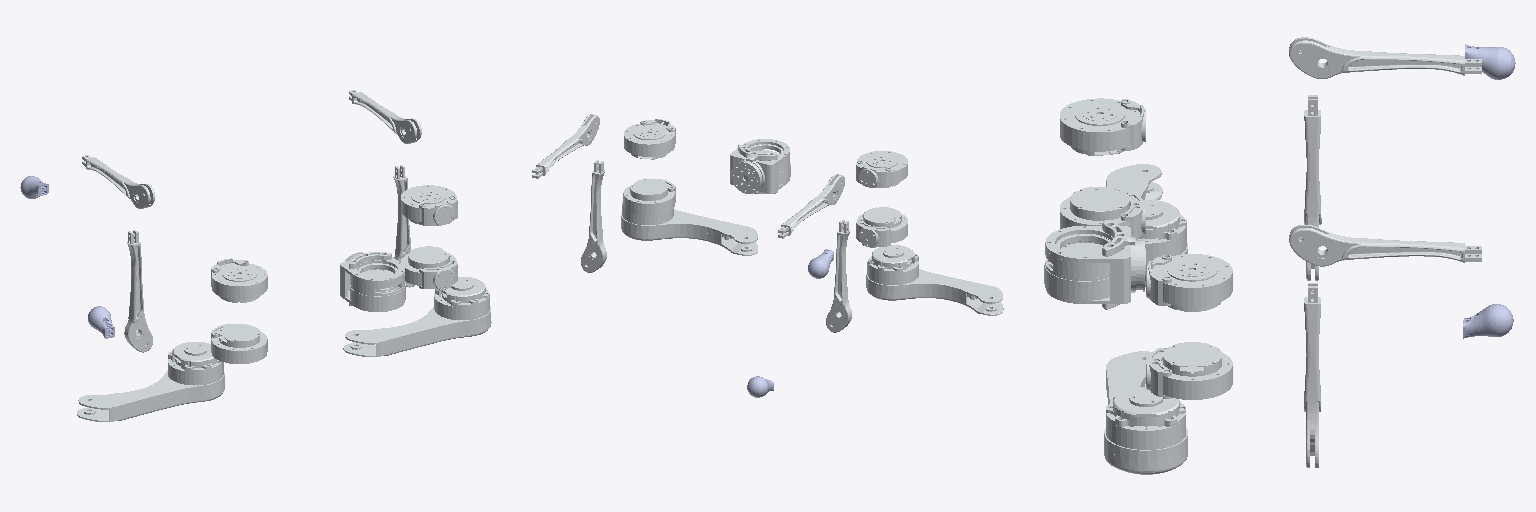
--- What the picture shows (computed from the rendered views, not written in the file) ---
Views: 3 orthographic renders of the robot side by side, from view 1: azimuth 30°, elevation 25°; view 2: azimuth 150°, elevation 25°; view 3: azimuth 270°, elevation 25°.
Robot: stray — 20 links, 19 joints (14 revolute, 5 fixed); root link base_link; default pose: all joints at 0.
Visible links, largest first — view 1: thigh_RH, thigh_RF, spine, hip_LH, hip_LF, hip_RF, hip_RH, calf_RH, calf_LF, calf_LH, calf_RF, foot_RH; view 2: thigh_RH, thigh_RF, spine, hip_RH, hip_LF, hip_RF, hip_LH, calf_RF, calf_RH, calf_LF, calf_LH; view 3: thigh_RF, spine, hip_LF, hip_RF, hip_LH, calf_LF, calf_LH, thigh_RH, hip_RH, calf_RF, calf_RH, foot_RH (+1 smaller).
Boxes of the visible links, left/top/right/bottom form: thigh_RH: left=77, top=342, right=224, bottom=421; thigh_RF: left=343, top=277, right=491, bottom=356; spine: left=340, top=252, right=405, bottom=311; hip_LH: left=211, top=258, right=267, bottom=302; hip_LF: left=401, top=185, right=457, bottom=225; hip_RF: left=401, top=246, right=457, bottom=290; hip_RH: left=211, top=324, right=267, bottom=363; calf_RH: left=124, top=230, right=152, bottom=352; calf_LF: left=349, top=90, right=421, bottom=143; calf_LH: left=82, top=155, right=154, bottom=208; calf_RF: left=393, top=165, right=414, bottom=287; foot_RH: left=88, top=306, right=114, bottom=338; thigh_RH: left=866, top=245, right=1003, bottom=315; thigh_RF: left=621, top=201, right=757, bottom=255; spine: left=730, top=139, right=790, bottom=193; hip_RH: left=856, top=207, right=907, bottom=247; hip_LF: left=624, top=119, right=675, bottom=159; hip_RF: left=623, top=179, right=675, bottom=215; hip_LH: left=856, top=151, right=907, bottom=187; calf_RF: left=581, top=160, right=606, bottom=272; calf_RH: left=826, top=220, right=851, bottom=332; calf_LF: left=532, top=114, right=599, bottom=178; calf_LH: left=778, top=174, right=844, bottom=238; thigh_RF: left=1104, top=351, right=1187, bottom=474; spine: left=1044, top=220, right=1145, bottom=309; hip_LF: left=1146, top=254, right=1232, bottom=311; hip_RF: left=1146, top=342, right=1232, bottom=399; hip_LH: left=1060, top=98, right=1145, bottom=155; calf_LF: left=1289, top=225, right=1481, bottom=266; calf_LH: left=1289, top=37, right=1481, bottom=78; thigh_RH: left=1106, top=164, right=1187, bottom=286; hip_RH: left=1060, top=187, right=1145, bottom=239; calf_RF: left=1304, top=283, right=1320, bottom=467; calf_RH: left=1304, top=95, right=1321, bottom=280; foot_RH: left=1463, top=304, right=1513, bottom=338.
Size in the robot's own frame: 0.8096 by 0.5601 by 0.3725 metres.
13 mesh visuals loaded from 19 distinct referenced files (13 Collada DAE); not drawn: 6 (reference not matched to a file when rendering).

robot.urdf — stray:
<?xml version="1.0" encoding="utf-8"?>
<!-- This URDF was automatically created by SolidWorks to URDF Exporter! Originally created by Stephen Brawner ([email redacted]) 
     Commit Version: 1.6.0-4-g7f85cfe  Build Version: 1.6.7995.38578
     For more information, please see http://wiki.ros.org/sw_urdf_exporter -->
<robot
  name="stray">
  <link
    name="base_link">
    <visual>
      <origin
        xyz="0 0 0"
        rpy="-1.57 0 0" />
      <geometry>
        <mesh
          filename="../meshes_dae/base_link.dae" scale="1.0 1.0 1.0" />
      </geometry>
      <material
        name="">
        <color
          rgba="0.79216 0.81961 0.93333 1" />
      </material>
    </visual>
    <collision>
      <origin
        xyz="-0.09078 -0.11250271 0.063814"
        rpy="0 0 0" />
      <geometry>
        <mesh
          filename="../meshes_dae/base_link.dae" scale="0.01 0.01 0.01" />
      </geometry>
    </collision>
  </link>
<!-- Fixed joint to add dummy inertia link -->
  <joint name="base_to_base_inertia" type="fixed">
    <parent link="base_link"/>
    <child link="base_inertia"/>
    <origin rpy="0 0 0" xyz="0 0 0"/>
  </joint>
  <!-- Dummy inertia link, because KDL cannot have inertia on the base link -->
  <link name="base_inertia">
    <inertial>
      <origin
        xyz="0.063814 -0.09078 -0.1125"
        rpy="0 0 0" />
      <mass
        value="1.7939" />
      <inertia
        ixx="0.012647"
        ixy="1.733E-05"
        ixz="-0.00011935"
        iyy="0.012076"
        iyz="0.00010456"
        izz="0.01898" />
    </inertial>
  </link>
  <link
    name="hip_LF">
    <inertial>
      <origin
        xyz="-0.00034836 -9.8322E-06 -0.030834"
        rpy="0 0 0" />
      <mass
        value="0.56862" />
      <inertia
        ixx="0.00060253"
        ixy="-3.1899E-08"
        ixz="3.42E-07"
        iyy="0.00032767"
        iyz="2.8857E-07"
        izz="0.00034334" />
    </inertial>
    <visual>
      <origin
        xyz="0 0 0"
        rpy="-1.57 0 0" />
      <geometry>
        <mesh
          filename="../meshes_dae/hip_LF.dae" scale="1.0 1.0 1.0" />
      </geometry>
      <material
        name="">
        <color
          rgba="0.89804 0.91765 0.92941 1" />
      </material>
    </visual>
    <collision>
      <origin
        xyz="0 0 0"
        rpy="0 0 0" />
      <geometry>
        <mesh
          filename="../meshes_dae/hip_LF.dae" scale="1.0 1.0 1.0" />
      </geometry>
    </collision>
  </link>
  <joint
    name="hip_LF"
    type="revolute">
    <origin
      xyz="0 -0.061245 -0.051852"
      rpy="3.1416 1.5708 0" />
    <parent
      link="base_link" />
    <child
      link="hip_LF" />
    <axis
      xyz="0 0 1" />
    <limit
      lower="-6.28"
      upper="6.28"
      effort="20"
      velocity="20" />
  </joint>
  <link
    name="thigh_LF">
    <inertial>
      <origin
        xyz="-0.04374 -0.026921 0.0040332"
        rpy="0 0 0" />
      <mass
        value="1.0889" />
      <inertia
        ixx="0.0034008"
        ixy="3.1205E-05"
        ixz="-4.541E-06"
        iyy="0.00068847"
        iyz="0.00024795"
        izz="0.0028056" />
    </inertial>
    <visual>
      <origin
        xyz="0 0 0"
        rpy="-1.57 0 0" />
      <geometry>
        <mesh
          filename="../meshes_dae/thigh_LF.dae" scale="1.0 1.0 1.0" />
      </geometry>
      <material
        name="">
        <color
          rgba="0.89804 0.91765 0.92941 1" />
      </material>
    </visual>
    <collision>
      <origin
        xyz="0 0 0"
        rpy="0 0 0" />
      <geometry>
        <mesh
          filename="../meshes_dae/thigh_LF.dae" scale="1.0 1.0 1.0" />
      </geometry>
    </collision>
  </link>
  <joint
    name="thigh_LF"
    type="revolute">
    <origin
      xyz="-0.016 -9.395E-05 -0.034406"
      rpy="0 0 0" />
    <parent
      link="hip_LF" />
    <child
      link="thigh_LF" />
    <axis
      xyz="-1 0 0" />
    <limit
      lower="-6.28"
      upper="6.28"
      effort="20"
      velocity="20" />
  </joint>
  <link
    name="calf_LF">
    <inertial>
      <origin
        xyz="-0.047911 -9.0833E-06 -0.011988"
        rpy="0 0 0" />
      <mass
        value="0.1592" />
      <inertia
        ixx="1.824E-05"
        ixy="2.6674E-05"
        ixz="-1.9308E-07"
        iyy="0.00064212"
        iyz="-4.9254E-11"
        izz="0.00065405" />
    </inertial>
    <visual>
      <origin
        xyz="0 0 0"
        rpy="-1.57 0 0" />
      <geometry>
        <mesh
          filename="../meshes_dae/calf_LF.dae" scale="1.0 1.0 1.0" />
      </geometry>
      <material
        name="">
        <color
          rgba="0.89804 0.91765 0.92941 1" />
      </material>
    </visual>
    <collision>
      <origin
        xyz="0 0 0"
        rpy="0 0 0" />
      <geometry>
        <mesh
          filename="../meshes_dae/calf_LF.dae" scale="1.0 1.0 1.0" />
      </geometry>
    </collision>
  </link>
  <joint
    name="knee_LF"
    type="revolute">
    <origin
      xyz="-0.048987 -0.20999 0.0015386"
      rpy="1.5708 0 1.5708" />
    <parent
      link="thigh_LF" />
    <child
      link="calf_LF" />
    <axis
      xyz="0 0 -1" />
    <limit
      lower="-6.28"
      upper="6.28"
      effort="20"
      velocity="20" />
  </joint>
  <link
    name="foot_LF">
    <inertial>
      <origin
        xyz="-0.00952636028378273 -0.003255359120589 -0.0603190011136691"
        rpy="0 0 0" />
      <mass
        value="0.0489354675276831" />
      <inertia
        ixx="6.61499100075221E-06"
        ixy="5.59270986775784E-07"
        ixz="-1.08570273348021E-08"
        iyy="1.13093169631092E-05"
        iyz="-5.55589421885464E-09"
        izz="1.0522832442435E-05" />
    </inertial>
    <visual>
      <origin
        xyz="0 0 0"
        rpy="-1.57 0 0" />
      <geometry>
        <mesh
          filename="../meshes_dae/foot_LF.dae" scale="1.0 1.0 1.0" />
      </geometry>
      <material
        name="">
        <color
          rgba="0.796078431372549 0.823529411764706 0.937254901960784 1" />
      </material>
    </visual>
    <collision>
      <origin
        xyz="0 0 0"
        rpy="0 0 0" />
      <geometry>
        <mesh
          filename="../meshes_dae/foot_LF.dae" scale="1.0 1.0 1.0" />
      </geometry>
    </collision>
  </link>
  <joint
    name="foot_LF_fixed"
    type="fixed">
    <origin
      xyz="-0.19434 0.01981 0.048374"
      rpy="0 0 0" />
    <parent
      link="calf_LF" />
    <child
      link="foot_LF" />
    <axis
      xyz="0 0 0" />
  </joint>
  <link
    name="hip_RF">
    <inertial>
      <origin
        xyz="0.00034835879550546 -6.42094981254115E-06 -0.0309669547553041"
        rpy="0 0 0" />
      <mass
        value="0.568623535101622" />
      <inertia
        ixx="0.000602528955395925"
        ixy="-2.91397536721649E-08"
        ixz="-3.91069707375715E-07"
        iyy="0.000328885756244396"
        iyz="-5.90478815475203E-08"
        izz="0.000342125519305869" />
    </inertial>
    <visual>
      <origin
        xyz="0 0 0"
        rpy="-1.57 0 0" />
      <geometry>
        <mesh
          filename="../meshes_dae/hip_RF.dae" scale="1.0 1.0 1.0" />
      </geometry>
      <material
        name="">
        <color
          rgba="0.898039215686275 0.917647058823529 0.929411764705882 1" />
      </material>
    </visual>
    <collision>
      <origin
        xyz="0 0 0"
        rpy="0 0 0" />
      <geometry>
        <mesh
          filename="../meshes_dae/hip_RF.dae" scale="1.0 1.0 1.0" />
      </geometry>
    </collision>
  </link>
  <joint
    name="hip_RF"
    type="revolute">
    <origin
      xyz="0 -0.061245 -0.17185"
      rpy="3.1416 1.5708 0" />
    <parent
      link="base_link" />
    <child
      link="hip_RF" />
    <axis
      xyz="0 0 1" />
    <limit
      lower="-6.28"
      upper="6.28"
      effort="20"
      velocity="20" />
  </joint>
  <link
    name="thigh_RF">
    <inertial>
      <origin
        xyz="0.0435797149441483 -0.0255401255933437 0.004016000646472"
        rpy="0 0 0" />
      <mass
        value="1.07905896802294" />
      <inertia
        ixx="0.00340092056172327"
        ixy="-3.11642701032931E-05"
        ixz="4.53040795359849E-06"
        iyy="0.000688096083234456"
        iyz="0.000251506923948224"
        izz="0.00280466429885037" />
    </inertial>
    <visual>
      <origin
        xyz="0 0 0"
        rpy="-1.57 0 0" />
      <geometry>
        <mesh
          filename="../meshes_dae/thigh_RF.dae" scale="1.0 1.0 1.0" />
      </geometry>
      <material
        name="">
        <color
          rgba="0.898039215686275 0.917647058823529 0.929411764705882 1" />
      </material>
    </visual>
    <collision>
      <origin
        xyz="0 0 0"
        rpy="0 0 0" />
      <geometry>
        <mesh
          filename="../meshes_dae/thigh_RF.dae" scale="1.0 1.0 1.0" />
      </geometry>
    </collision>
  </link>
  <joint
    name="thigh_RF"
    type="revolute">
    <origin
      xyz="0.016 9.395E-05 -0.034406"
      rpy="0 0 0" />
    <parent
      link="hip_RF" />
    <child
      link="thigh_RF" />
    <axis
      xyz="1 0 0" />
    <limit
      lower="-6.28"
      upper="6.28"
      effort="20"
      velocity="20" />
  </joint>
  <link
    name="calf_RF">
    <inertial>
      <origin
        xyz="0.0133430838760272 -0.0479037233543204 -0.00261230042154122"
        rpy="0 0 0" />
      <mass
        value="0.160141352518096" />
      <inertia
        ixx="0.000662996606386018"
        ixy="-1.96242707215226E-07"
        ixz="-1.07153951405018E-08"
        iyy="1.72819532401065E-05"
        iyz="-6.67878493609985E-06"
        izz="0.000652050510481103" />
    </inertial>
    <visual>
      <origin
        xyz="0 0 0"
        rpy="-1.57 0 0" />
      <geometry>
        <mesh
          filename="../meshes_dae/calf_RF.dae" scale="1.0 1.0 1.0" />
      </geometry>
      <material
        name="">
        <color
          rgba="0.898039215686275 0.917647058823529 0.929411764705882 1" />
      </material>
    </visual>
    <collision>
      <origin
        xyz="0 0 0"
        rpy="0 0 0" />
      <geometry>
        <mesh
          filename="../meshes_dae/calf_RF.dae" scale="1.0 1.0 1.0" />
      </geometry>
    </collision>
  </link>
  <joint
    name="knee_RF"
    type="revolute">
    <origin
      xyz="0.046682 -0.20999 0.0014815"
      rpy="0 0 0" />
    <parent
      link="thigh_RF" />
    <child
      link="calf_RF" />
    <axis
      xyz="1 0 0" />
    <limit
      lower="-6.28"
      upper="6.28"
      effort="20"
      velocity="20" />
  </joint>
  <link
    name="foot_RF">
    <inertial>
      <origin
        xyz="-0.00952638961803193 0.00325536559718384 0.0603189938222502"
        rpy="0 0 0" />
      <mass
        value="0.0489354478107364" />
      <inertia
        ixx="6.61499045366396E-06"
        ixy="-5.5926330131124E-07"
        ixz="1.08602293590878E-08"
        iyy="1.13092997917033E-05"
        iyz="-5.55760657840185E-09"
        izz="1.05228251134703E-05" />
    </inertial>
    <visual>
      <origin
        xyz="0 0 0"
        rpy="-1.57 0 0" />
      <geometry>
        <mesh
          filename="../meshes_dae/foot_RF.dae" scale="1.0 1.0 1.0" />
      </geometry>
      <material
        name="">
        <color
          rgba="0.796078431372549 0.823529411764706 0.937254901960784 1" />
      </material>
    </visual>
    <collision>
      <origin
        xyz="0 0 0"
        rpy="0 0 0" />
      <geometry>
        <mesh
          filename="../meshes_dae/foot_RF.dae" scale="1.0 1.0 1.0" />
      </geometry>
    </collision>
  </link>
  <joint
    name="foot_RF_fixed"
    type="fixed">
    <origin
      xyz="0.073604294108346 -0.195118693119921 0.00922808421144566"
      rpy="-1.5707963267949 -0.0538161457159276 1.57079632679489" />
    <parent
      link="calf_RF" />
    <child
      link="foot_RF" />
    <axis
      xyz="0 0 0" />
  </joint>
  <link
    name="spine">
    <inertial>
      <origin
        xyz="0.0037215 3.1581E-05 0.060545"
        rpy="0 0 0" />
      <mass
        value="1.0024" />
      <inertia
        ixx="0.0012978"
        ixy="2.6396E-08"
        ixz="-3.1713E-08"
        iyy="0.00077248"
        iyz="6.978E-08"
        izz="0.00084971" />
    </inertial>
    <visual>
      <origin
        xyz="0 0 0"
        rpy="-1.57 0 0" />
      <geometry>
        <mesh
          filename="../meshes_dae/spine.dae" scale="1.0 1.0 1.0" />
      </geometry>
      <material
        name="">
        <color
          rgba="0.89804 0.91765 0.92941 1" />
      </material>
    </visual>
    <collision>
      <origin
        xyz="0 0 0"
        rpy="0 0 0" />
      <geometry>
        <mesh
          filename="../meshes_dae/spine.dae" scale="1.0 1.0 1.0" />
      </geometry>
    </collision>
  </link>
  <joint
    name="spine_roll"
    type="revolute">
    <origin
      xyz="-0.17459 -0.061245 -0.11185"
      rpy="3.1416 1.5708 0" />
    <parent
      link="base_link" />
    <child
      link="spine" />
    <axis
      xyz="0 0 -1" />
    <limit
      lower="-6.28"
      upper="6.28"
      effort="20"
      velocity="20" />
  </joint>
  <link
    name="hind_body">
    <inertial>
      <origin
        xyz="0.163814 -0.072 -0.1125"
        rpy="0 0 0" />
      <mass
        value="1.878" />
      <inertia
        ixx="0.014563"
        ixy="-1.361E-05"
        ixz="0.00036525"
        iyy="0.013965"
        iyz="1.095E-05"
        izz="0.019383" />
    </inertial>
    <visual>
      <origin
        xyz="0 0 0"
        rpy="-1.57 0 0" />
      <geometry>
        <mesh
          filename="../meshes_dae/hind_body.dae" scale="1.0 1.0 1.0" />
      </geometry>
      <material
        name="">
        <color
          rgba="0.79216 0.81961 0.93333 1" />
      </material>
    </visual>
    <collision>
      <origin
        xyz="0 0 0"
        rpy="0 0 0" />
      <geometry>
        <mesh
          filename="../meshes_dae/hind_body.dae" scale="1.0 1.0 1.0" />
      </geometry>
    </collision>
  </link>
  <joint
    name="spine_pitch"
    type="revolute">
    <origin
      xyz="0 0 0.073"
      rpy="0 0 0" />
    <parent
      link="spine" />
    <child
      link="hind_body" />
    <axis
      xyz="1 0 0" />
    <limit
      lower="-6.28"
      upper="6.28"
      effort="20"
      velocity="20" />
  </joint>
  <link
    name="hip_LH">
    <inertial>
      <origin
        xyz="-0.00034836 9.5698E-06 0.051583"
        rpy="0 0 0" />
      <mass
        value="0.56862" />
      <inertia
        ixx="0.00060253"
        ixy="2.1979E-08"
        ixz="-3.9783E-07"
        iyy="0.00032885"
        iyz="-2.4467E-07"
        izz="0.00034217" />
    </inertial>
    <visual>
      <origin
        xyz="0 0 0"
        rpy="-1.57 0 0" />
      <geometry>
        <mesh
          filename="../meshes_dae/hip_LH.dae" scale="1.0 1.0 1.0" />
      </geometry>
      <material
        name="">
        <color
          rgba="0.89804 0.91765 0.92941 1" />
      </material>
    </visual>
    <collision>
      <origin
        xyz="0 0 0"
        rpy="0 0 0" />
      <geometry>
        <mesh
          filename="../meshes_dae/hip_LH.dae" scale="1.0 1.0 1.0" />
      </geometry>
    </collision>
  </link>
  <joint
    name="hip_LH"
    type="revolute">
    <origin
      xyz="-0.06 0 0.19"
      rpy="0 0 0" />
    <parent
      link="hind_body" />
    <child
      link="hip_LH" />
    <axis
      xyz="0 0 -1" />
    <limit
      lower="-6.28"
      upper="6.28"
      effort="20"
      velocity="20" />
  </joint>
  <link
    name="thigh_LH">
    <inertial>
      <origin
        xyz="-0.0437404851282313 -0.0269210991420075 0.00403315158661055"
        rpy="0 0 0" />
      <mass
        value="1.08888127887265" />
      <inertia
        ixx="0.00340077788406069"
        ixy="3.12049344779314E-05"
        ixz="-4.54104975582793E-06"
        iyy="0.00068847396636487"
        iyz="0.000247952849393838"
        izz="0.00280559564643158" />
    </inertial>
    <visual>
      <origin
        xyz="0 0 0"
        rpy="-1.57 0 0" />
      <geometry>
        <mesh
          filename="../meshes_dae/thigh_LH.dae" scale="1.0 1.0 1.0" />
      </geometry>
      <material
        name="">
        <color
          rgba="0.898039215686275 0.917647058823529 0.929411764705882 1" />
      </material>
    </visual>
    <collision>
      <origin
        xyz="0 0 0"
        rpy="0 0 0" />
      <geometry>
        <mesh
          filename="../meshes_dae/thigh_LH.dae" scale="1.0 1.0 1.0" />
      </geometry>
    </collision>
  </link>
  <joint
    name="thigh_LH"
    type="revolute">
    <origin
      xyz="-0.016 9.395E-05 0.055"
      rpy="0 0 0" />
    <parent
      link="hip_LH" />
    <child
      link="thigh_LH" />
    <axis
      xyz="-1 0 0" />
    <limit
      lower="-6.28"
      upper="6.28"
      effort="20"
      velocity="20" />
  </joint>
  <link
    name="calf_LH">
    <inertial>
      <origin
        xyz="-0.047911 -9.0833E-06 -0.011988"
        rpy="0 0 0" />
      <mass
        value="0.1592" />
      <inertia
        ixx="1.824E-05"
        ixy="2.6674E-05"
        ixz="-1.9308E-07"
        iyy="0.00064212"
        iyz="-4.9254E-11"
        izz="0.00065405" />
    </inertial>
    <visual>
      <origin
        xyz="0 0 0"
        rpy="-1.57 0 0" />
      <geometry>
        <mesh
          filename="../meshes_dae/calf_LH.dae" scale="1.0 1.0 1.0" />
      </geometry>
      <material
        name="">
        <color
          rgba="0.89804 0.91765 0.92941 1" />
      </material>
    </visual>
    <collision>
      <origin
        xyz="0 0 0"
        rpy="0 0 0" />
      <geometry>
        <mesh
          filename="../meshes_dae/calf_LH.dae" scale="1.0 1.0 1.0" />
      </geometry>
    </collision>
  </link>
  <joint
    name="knee_LH"
    type="revolute">
    <origin
      xyz="-0.048987 -0.20999 0.0015386"
      rpy="1.5708 0 1.5708" />
    <parent
      link="thigh_LH" />
    <child
      link="calf_LH" />
    <axis
      xyz="0 0 -1" />
    <limit
      lower="-6.28"
      upper="6.28"
      effort="20"
      velocity="20" />
  </joint>
  <link
    name="foot_LH">
    <inertial>
      <origin
        xyz="-0.00952636028378256 -0.00325535912058883 -0.0603190011136692"
        rpy="0 0 0" />
      <mass
        value="0.0489354675276826" />
      <inertia
        ixx="6.61499100075212E-06"
        ixy="5.59270986775867E-07"
        ixz="-1.08570273348668E-08"
        iyy="1.13093169631091E-05"
        iyz="-5.55589421884462E-09"
        izz="1.0522832442435E-05" />
    </inertial>
    <visual>
      <origin
        xyz="0 0 0"
        rpy="-1.57 0 0" />
      <geometry>
        <mesh
          filename="../meshes_dae/foot_LH.dae" scale="1.0 1.0 1.0" />
      </geometry>
      <material
        name="">
        <color
          rgba="0.796078431372549 0.823529411764706 0.937254901960784 1" />
      </material>
    </visual>
    <collision>
      <origin
        xyz="0 0 0"
        rpy="0 0 0" />
      <geometry>
        <mesh
          filename="../meshes_dae/foot_LH.dae" scale="1.0 1.0 1.0" />
      </geometry>
    </collision>
  </link>
  <joint
    name="foot_LH_fixed"
    type="fixed">
    <origin
      xyz="-0.194339831874995 0.0196101925364983 0.0481738951177475"
      rpy="0 0 0" />
    <parent
      link="calf_LH" />
    <child
      link="foot_LH" />
    <axis
      xyz="0 0 0" />
  </joint>
  <link
    name="hip_RH">
    <inertial>
      <origin
        xyz="0.00034835879550546 6.42094981223584E-06 0.0515610174271192"
        rpy="0 0 0" />
      <mass
        value="0.568623535101621" />
      <inertia
        ixx="0.000602528955395924"
        ixy="2.91397536721698E-08"
        ixz="3.91069707375893E-07"
        iyy="0.000328885756244396"
        iyz="-5.90478815476018E-08"
        izz="0.000342125519305869" />
    </inertial>
    <visual>
      <origin
        xyz="0 0 0"
        rpy="-1.57 0 0" />
      <geometry>
        <mesh
          filename="../meshes_dae/hip_RH.dae" scale="1.0 1.0 1.0" />
      </geometry>
      <material
        name="">
        <color
          rgba="0.898039215686275 0.917647058823529 0.929411764705882 1" />
      </material>
    </visual>
    <collision>
      <origin
        xyz="0 0 0"
        rpy="0 0 0" />
      <geometry>
        <mesh
          filename="../meshes_dae/hip_RH.dae" scale="1.0 1.0 1.0" />
      </geometry>
    </collision>
  </link>
  <joint
    name="hip_RH"
    type="revolute">
    <origin
      xyz="0.06 0 0.19"
      rpy="0 0 0" />
    <parent
      link="hind_body" />
    <child
      link="hip_RH" />
    <axis
      xyz="0 0 -1" />
    <limit
      lower="-6.28"
      upper="6.28"
      effort="20"
      velocity="20" />
  </joint>
  <link
    name="thigh_RH">
    <inertial>
      <origin
        xyz="0.0435796473297559 -0.0255401696989773 0.0040159554158295"
        rpy="0 0 0" />
      <mass
        value="1.07905682245042" />
      <inertia
        ixx="0.00340091633540374"
        ixy="-3.11641222043089E-05"
        ixz="4.53043888214106E-06"
        iyy="0.000688095408929051"
        iyz="0.000251507753967585"
        izz="0.00280466074100009" />
    </inertial>
    <visual>
      <origin
        xyz="0 0 0"
        rpy="-1.57 0 0" />
      <geometry>
        <mesh
          filename="../meshes_dae/thigh_RH.dae" scale="1.0 1.0 1.0" />
      </geometry>
      <material
        name="">
        <color
          rgba="0.898039215686275 0.917647058823529 0.929411764705882 1" />
      </material>
    </visual>
    <collision>
      <origin
        xyz="0 0 0"
        rpy="0 0 0" />
      <geometry>
        <mesh
          filename="../meshes_dae/thigh_RH.dae" scale="1.0 1.0 1.0" />
      </geometry>
    </collision>
  </link>
  <joint
    name="thigh_RH"
    type="revolute">
    <origin
      xyz="0.016 -9.395E-05 0.055"
      rpy="0 0 0" />
    <parent
      link="hip_RH" />
    <child
      link="thigh_RH" />
    <axis
      xyz="1 0 0" />
    <limit
      lower="-6.28"
      upper="6.28"
      effort="20"
      velocity="20" />
  </joint>
  <link
    name="calf_RH">
    <inertial>
      <origin
        xyz="0.013343 -0.047904 -0.0026123"
        rpy="0 0 0" />
      <mass
        value="0.16014" />
      <inertia
        ixx="0.000663"
        ixy="-1.9624E-07"
        ixz="-1.0715E-08"
        iyy="1.7282E-05"
        iyz="-6.6788E-06"
        izz="0.00065205" />
    </inertial>
    <visual>
      <origin
        xyz="0 0 0"
        rpy="-1.57 0 0" />
      <geometry>
        <mesh
          filename="../meshes_dae/calf_RH.dae" scale="1.0 1.0 1.0" />
      </geometry>
      <material
        name="">
        <color
          rgba="0.89804 0.91765 0.92941 1" />
      </material>
    </visual>
    <collision>
      <origin
        xyz="0 0 0"
        rpy="0 0 0" />
      <geometry>
        <mesh
          filename="../meshes_dae/calf_RH.dae" scale="1.0 1.0 1.0" />
      </geometry>
    </collision>
  </link>
  <joint
    name="knee_RH"
    type="revolute">
    <origin
      xyz="0.046682 -0.20999 0.0014815"
      rpy="0 0 0" />
    <parent
      link="thigh_RH" />
    <child
      link="calf_RH" />
    <axis
      xyz="1 0 0" />
    <limit
      lower="-6.28"
      upper="6.28"
      effort="20"
      velocity="20" />
  </joint>
  <link
    name="foot_RH">
    <inertial>
      <origin
        xyz="-0.00952638961803193 0.00325536559718387 0.0603189938222503"
        rpy="0 0 0" />
      <mass
        value="0.0489354478107364" />
      <inertia
        ixx="6.61499045366401E-06"
        ixy="-5.59263301311204E-07"
        ixz="1.08602293591296E-08"
        iyy="1.13092997917033E-05"
        iyz="-5.5576065784009E-09"
        izz="1.05228251134703E-05" />
    </inertial>
    <visual>
      <origin
        xyz="0 0 0"
        rpy="-1.57 0 0" />
      <geometry>
        <mesh
          filename="../meshes_dae/foot_RH.dae" scale="1.0 1.0 1.0" />
      </geometry>
      <material
        name="">
        <color
          rgba="0.796078431372549 0.823529411764706 0.937254901960784 1" />
      </material>
    </visual>
    <collision>
      <origin
        xyz="0 0 0"
        rpy="0 0 0" />
      <geometry>
        <mesh
          filename="../meshes_dae/foot_RH.dae" scale="1.0 1.0 1.0" />
      </geometry>
    </collision>
  </link>
  <joint
    name="foot_RH_fixed"
    type="fixed">
    <origin
      xyz="0.0736042941083461 -0.195118693119921 0.00922808421144594"
      rpy="-1.5707963267949 -0.0538161457159255 1.57079632679489" />
    <parent
      link="calf_RH" />
    <child
      link="foot_RH" />
    <axis
      xyz="0 0 0" />
  </joint>
</robot>
